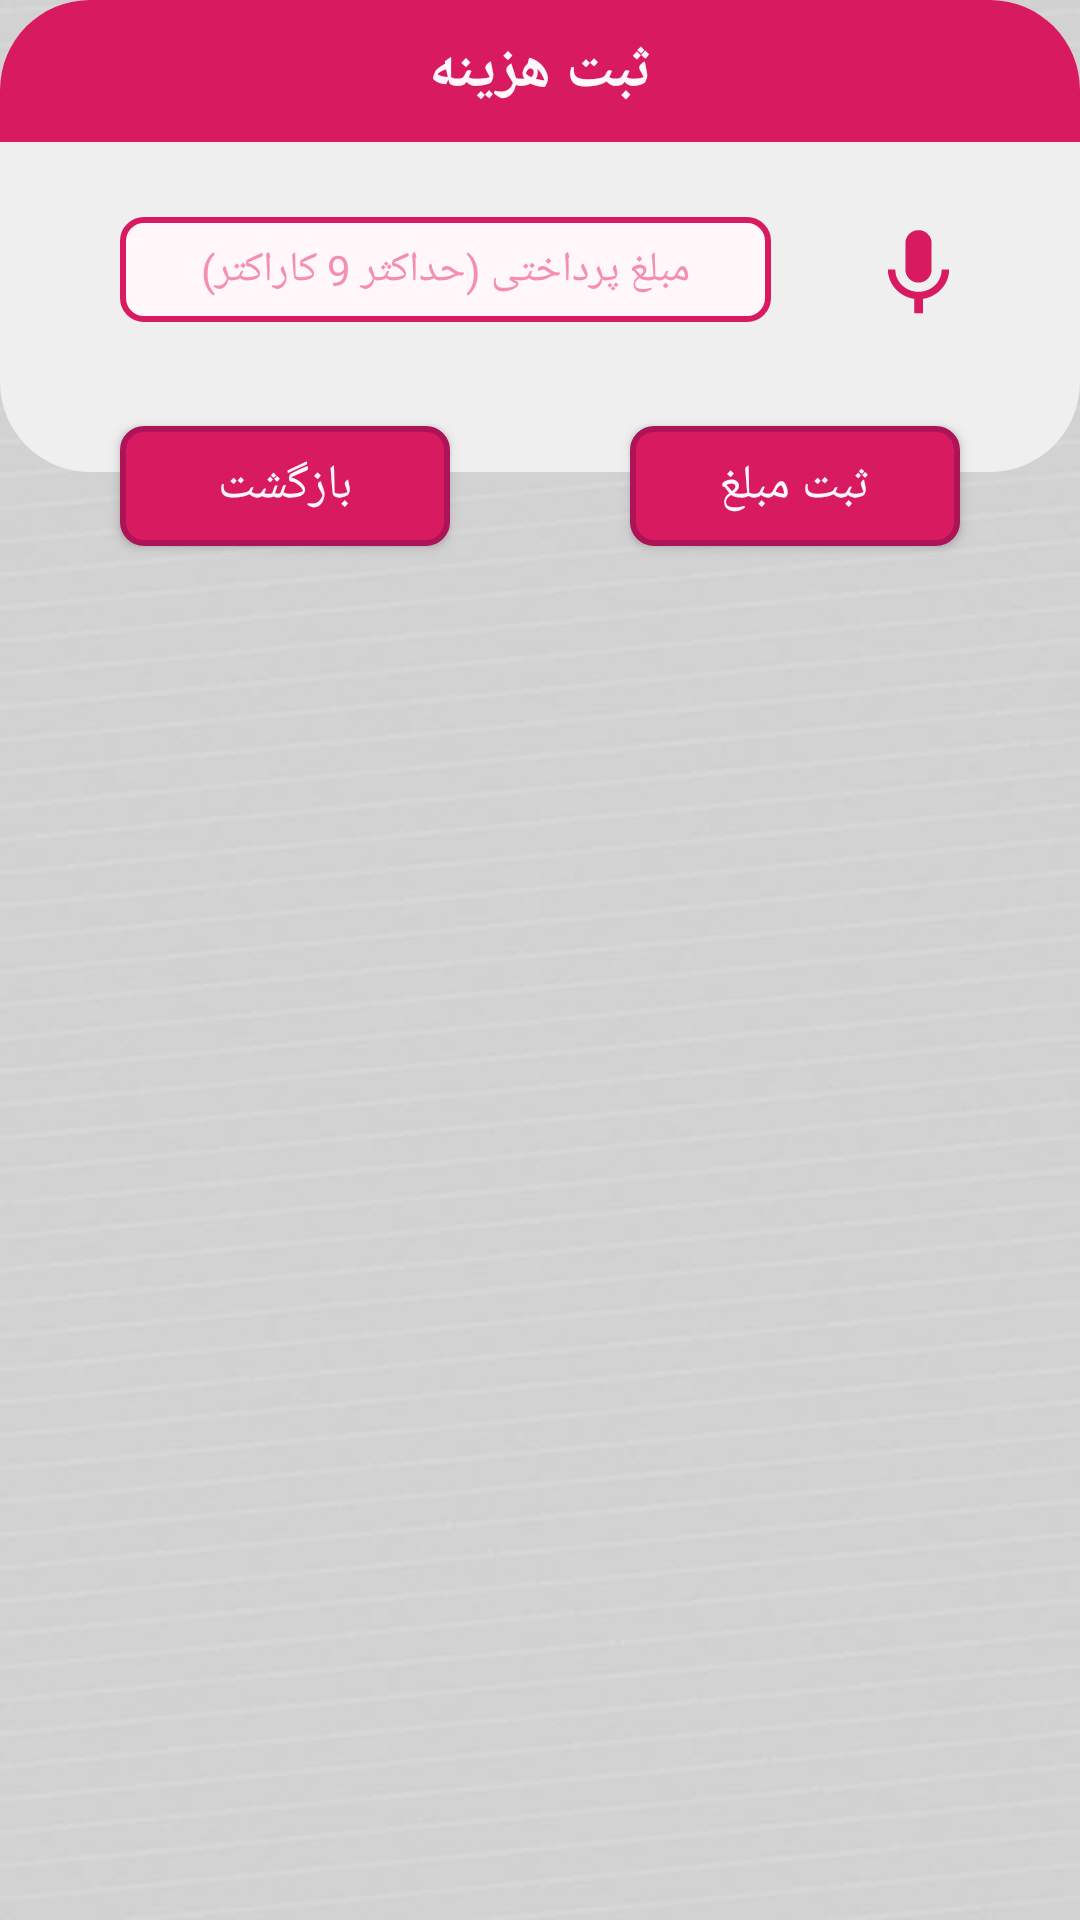

Where to tap for icons on this 1080×1920 app screen, as point (x, y):
voice: point (918, 272)
